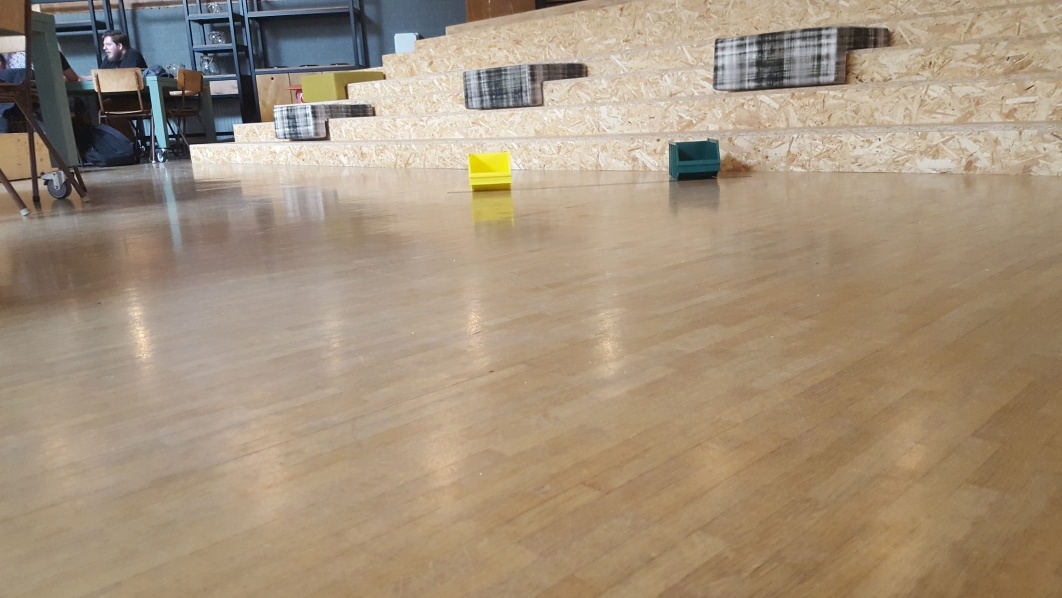tray: (460, 146, 518, 196), (668, 138, 724, 184)
